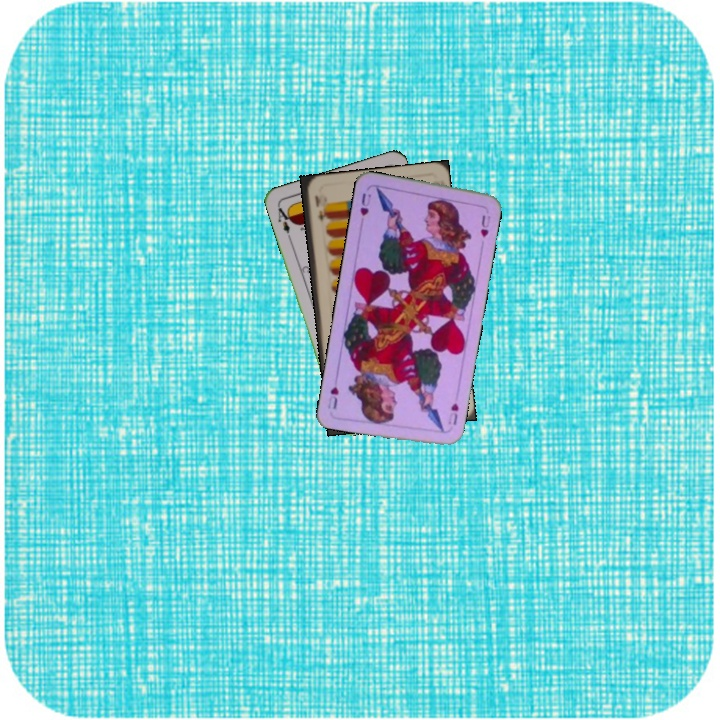E10: (311, 192, 327, 225)
EA: (274, 202, 295, 241)
HU: (356, 189, 373, 218), (444, 399, 461, 427)
